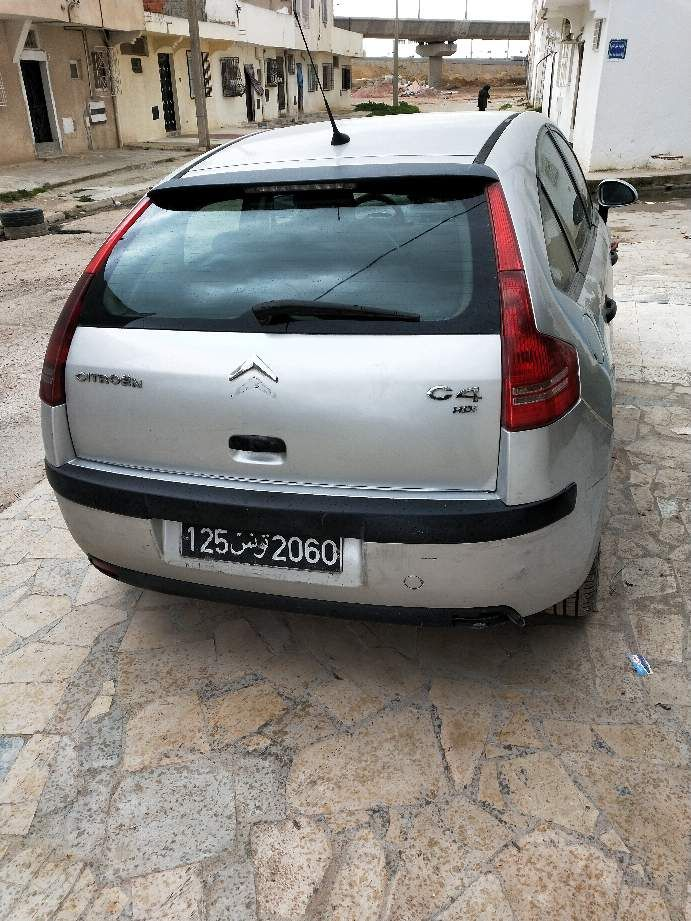LP: (177, 522, 345, 575)
